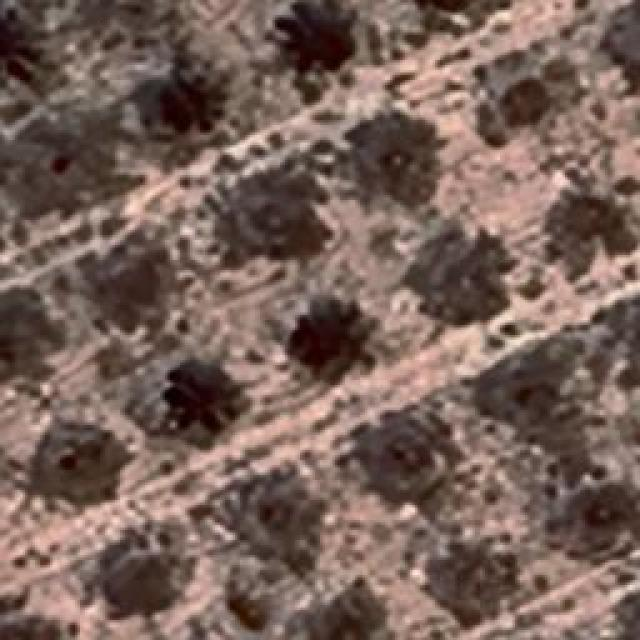PalmTree: (65, 52, 349, 614), (70, 68, 199, 396), (278, 1, 358, 79), (296, 301, 376, 379), (166, 64, 236, 134), (0, 289, 55, 372), (0, 0, 45, 75), (0, 612, 76, 640), (612, 590, 640, 640), (619, 586, 640, 640)
